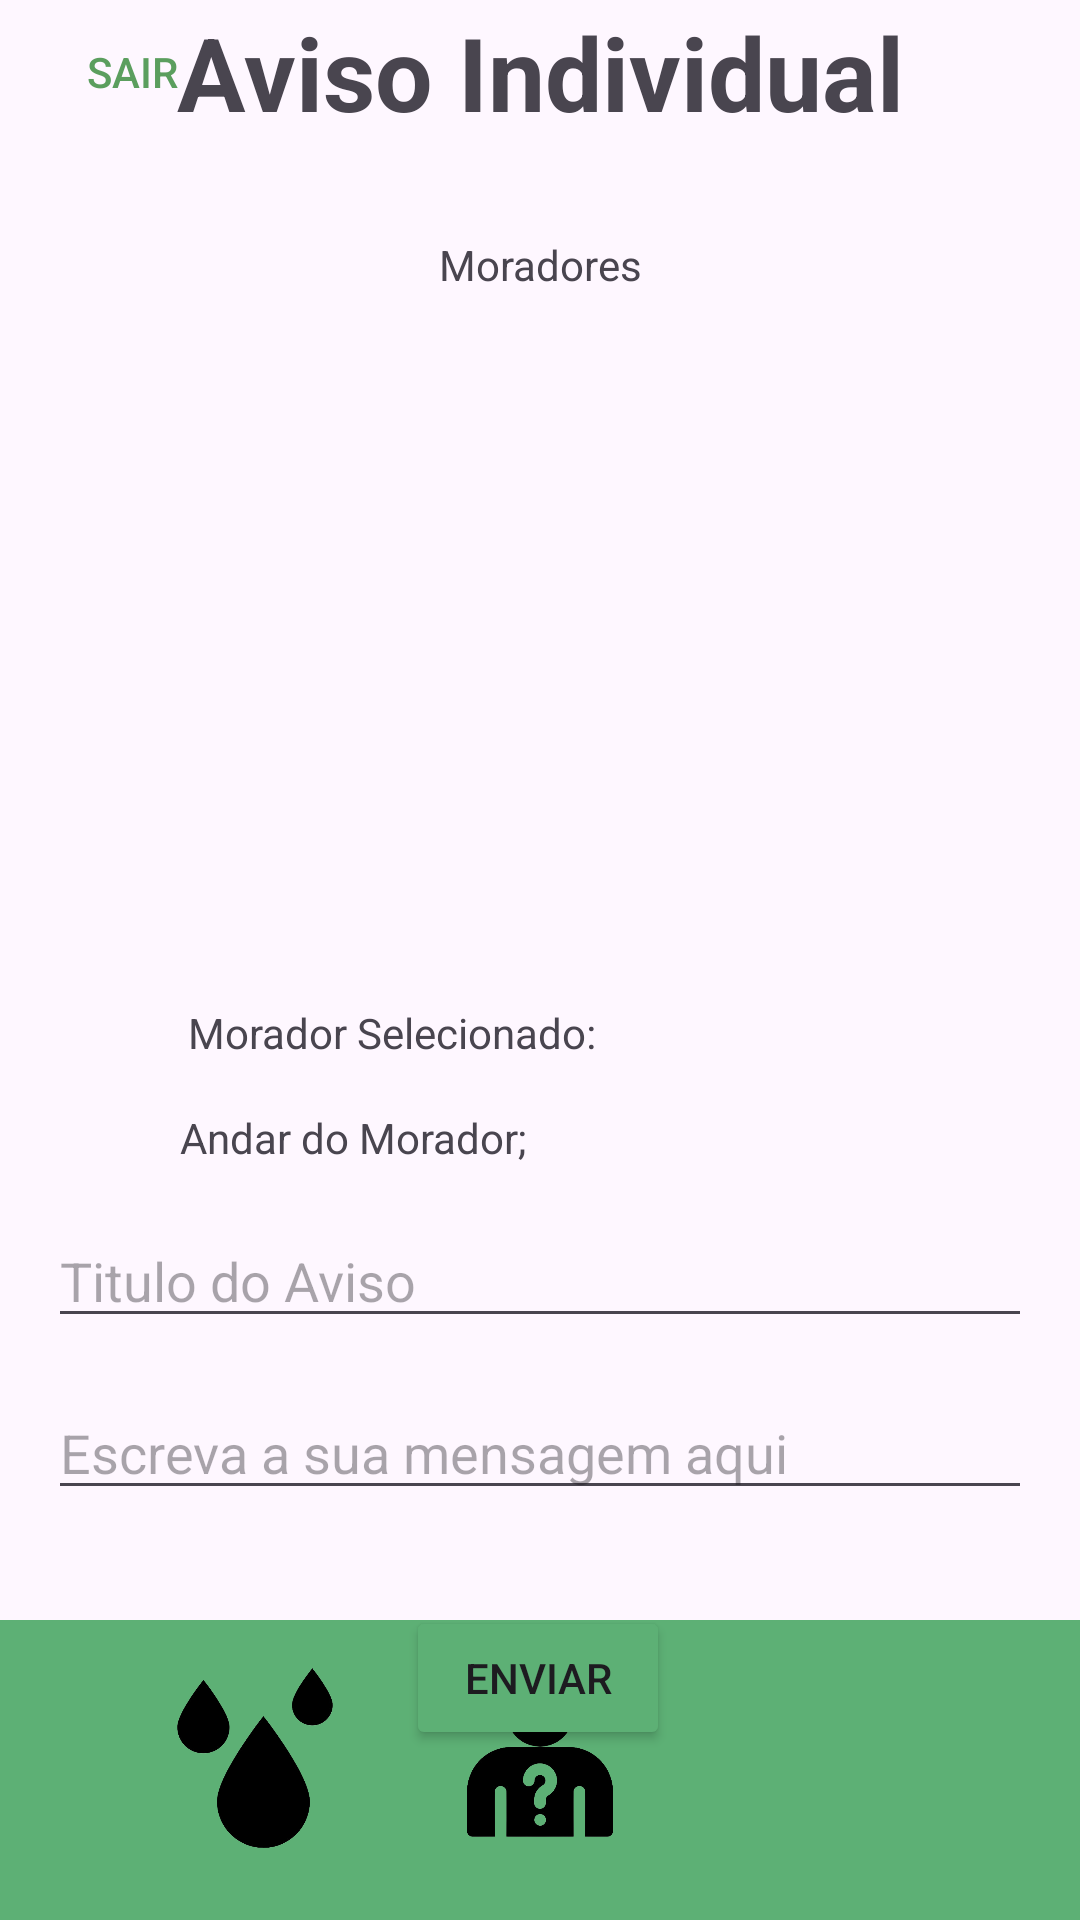

Icons on this 1080px x 1920px Android screen, each with its box as (x1, y1, x2, y2):
rega: (177, 1668, 333, 1848)
